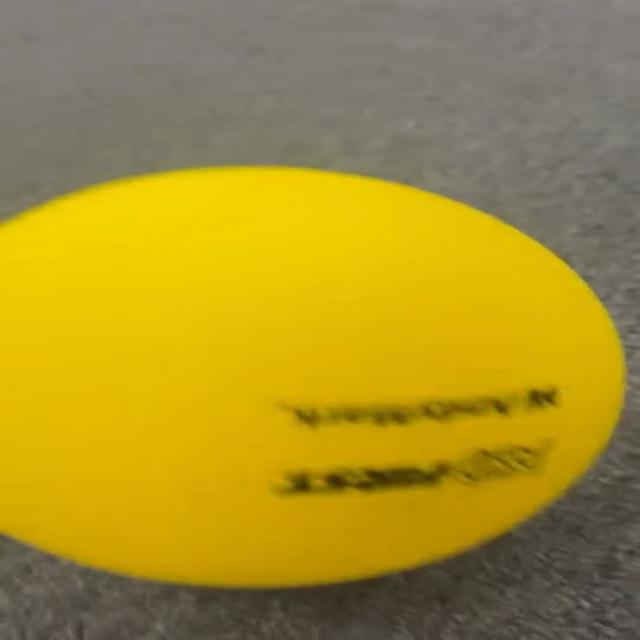Fuels: (4, 168, 622, 585)
